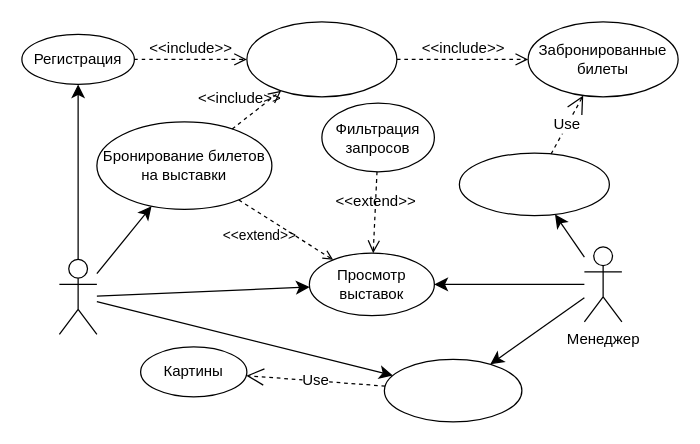
Some shapes in this 700 by 444 pixel diagram are drawn without their labels. The shapes that lost their labels are listed below. From the top down, each one's centre as x and y in pixels, then its label:
At point 321,59: "Внесение данных в базу данных".
At point 533,184: "Просмотр статистики продаж".
At point 77,296: "Пользователь".
At point 452,390: "Просмотр сведений о картинах".
